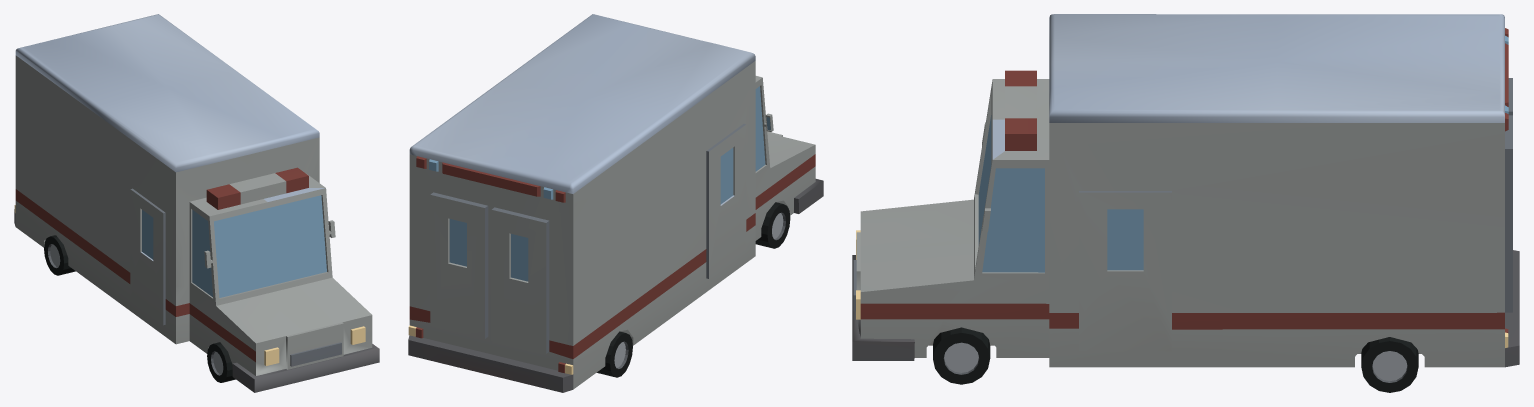
Rendered from ambulance_clean.glb.
3 renders of one model, left to right at view 1: azimuth 30°, elevation 25°; view 2: azimuth 150°, elevation 25°; view 3: azimuth 270°, elevation 25°, orthographic. The views are drawn at different scales.
Parts seen in each view (by area): view 1: Body, Glass; view 2: Body, Glass; view 3: Body, Glass.
Part boxes in pixels (bbox=[...]): Body: bbox=[14, 14, 379, 392]; Glass: bbox=[142, 195, 326, 297]; Body: bbox=[408, 14, 823, 392]; Glass: bbox=[429, 86, 770, 281]; Body: bbox=[852, 14, 1519, 392]; Glass: bbox=[978, 35, 1508, 272].
Size of the model in its own units: 2.3 by 2.92 by 6.3.
